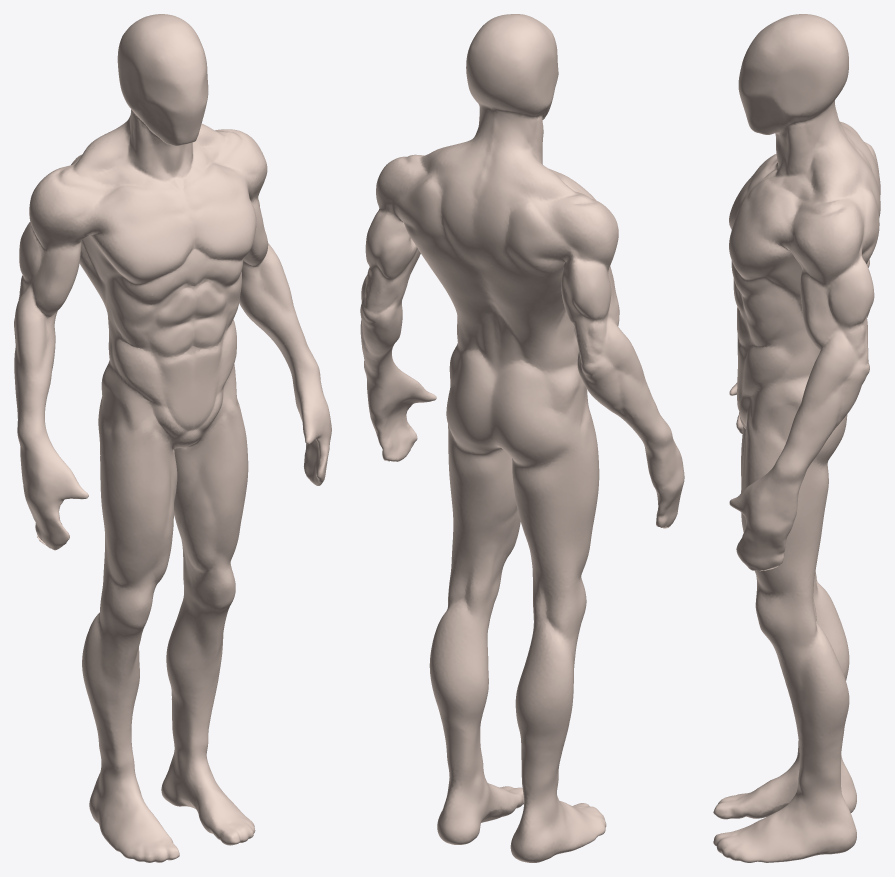
File: body-male.glb
3 renders of one model, left to right at view 1: azimuth 30°, elevation 25°; view 2: azimuth 150°, elevation 25°; view 3: azimuth 270°, elevation 25°, orthographic.
Parts seen in each view (by area): view 1: body; view 2: body; view 3: body.
Boxes of the visible parts, box(x1,y1,x2,y2) form: body: box(14, 14, 331, 862); body: box(360, 14, 684, 862); body: box(713, 14, 880, 862).
Size of the model in its own units: 67.98 by 175 by 32.56.
